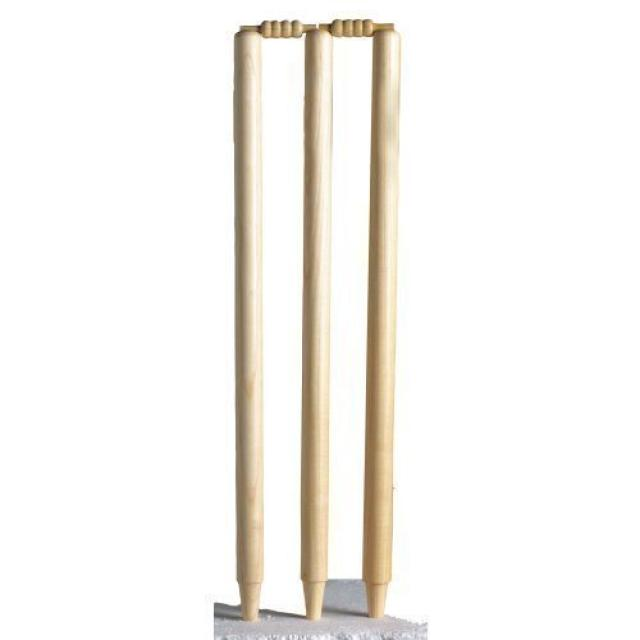stump: (228, 18, 400, 618)
